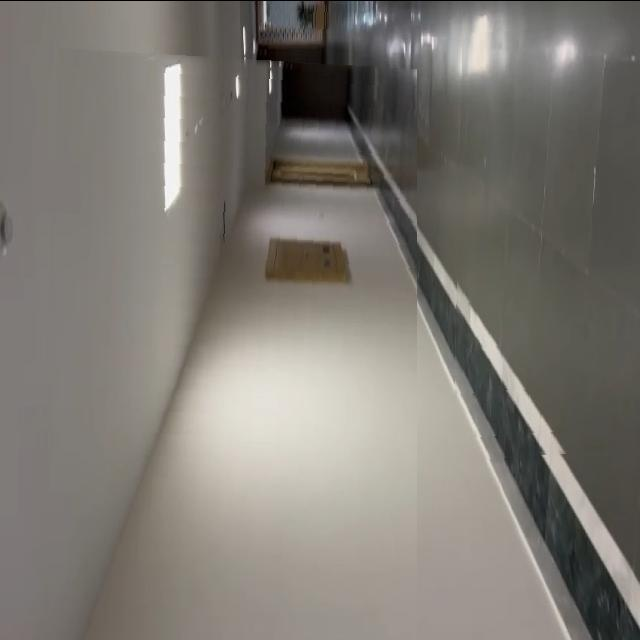floor: (453, 0, 640, 461)
furniture: (292, 0, 329, 37)
wall: (33, 47, 417, 640)
